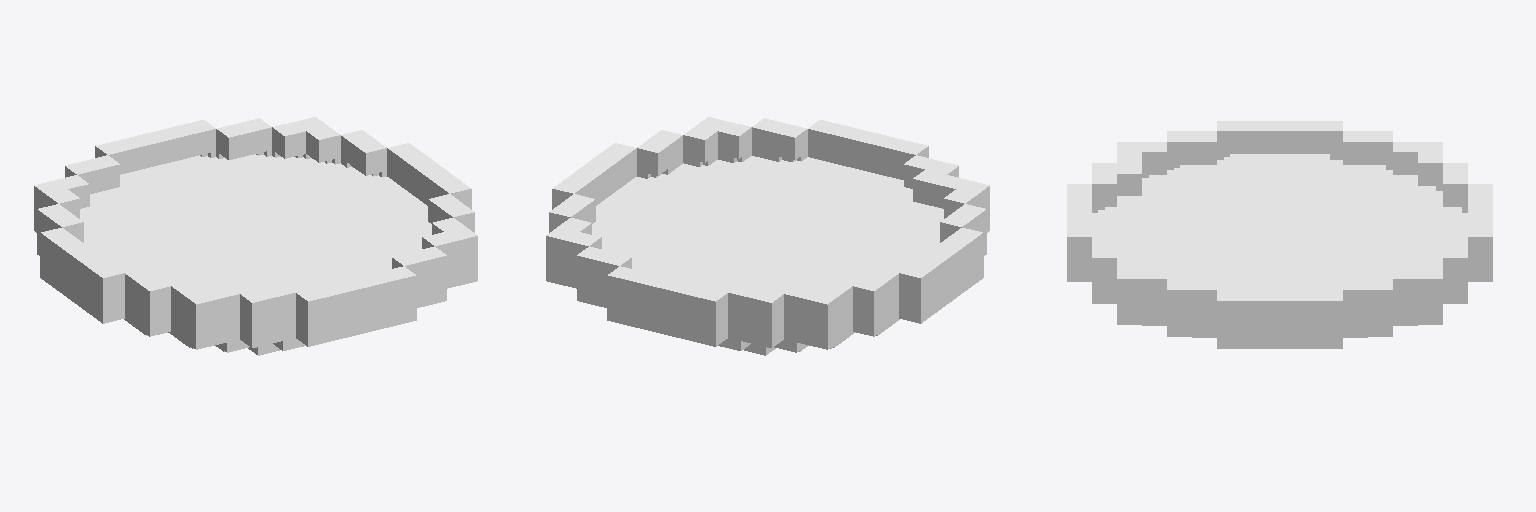
File: tarelka.obj
The picture shows the model from 3 angles: view 1: azimuth 30°, elevation 25°; view 2: azimuth 150°, elevation 25°; view 3: azimuth 270°, elevation 25°; orthographic projection.
Bounding box in the file's own units: 68 × 16 × 68.